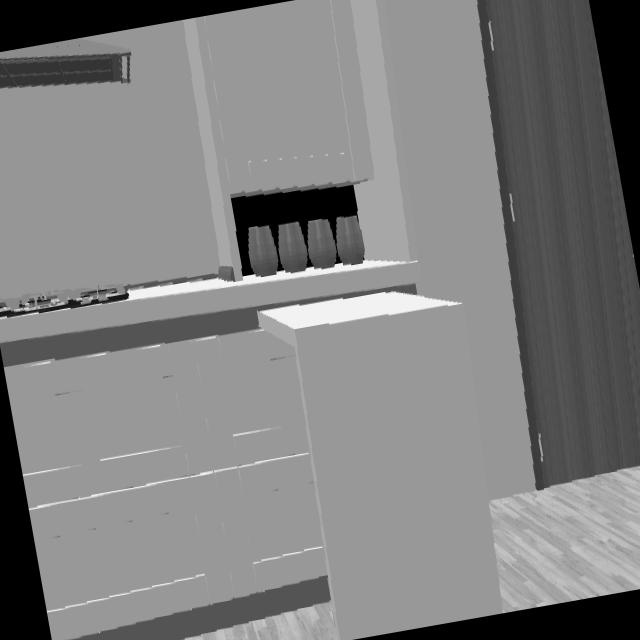cabinet: (3, 329, 329, 640), (188, 0, 372, 200)
countertop: (0, 260, 419, 367)
stove: (0, 284, 129, 318)
